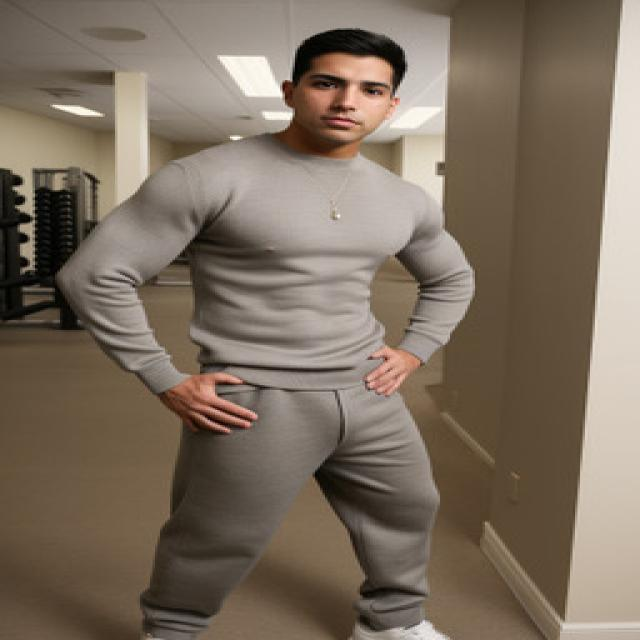Ai human 2: (55, 20, 489, 640)
